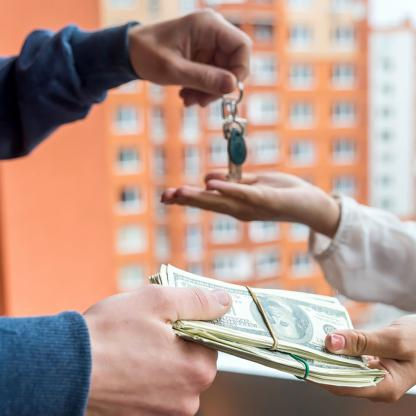keys: (220, 97, 252, 185)
